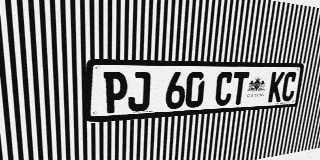0: (185, 72, 205, 108)
6: (165, 72, 187, 109)
C: (214, 72, 234, 106), (281, 72, 298, 102)
J: (128, 72, 151, 112)
K: (267, 72, 285, 103)
P: (104, 72, 128, 114)
T: (230, 72, 249, 105)
